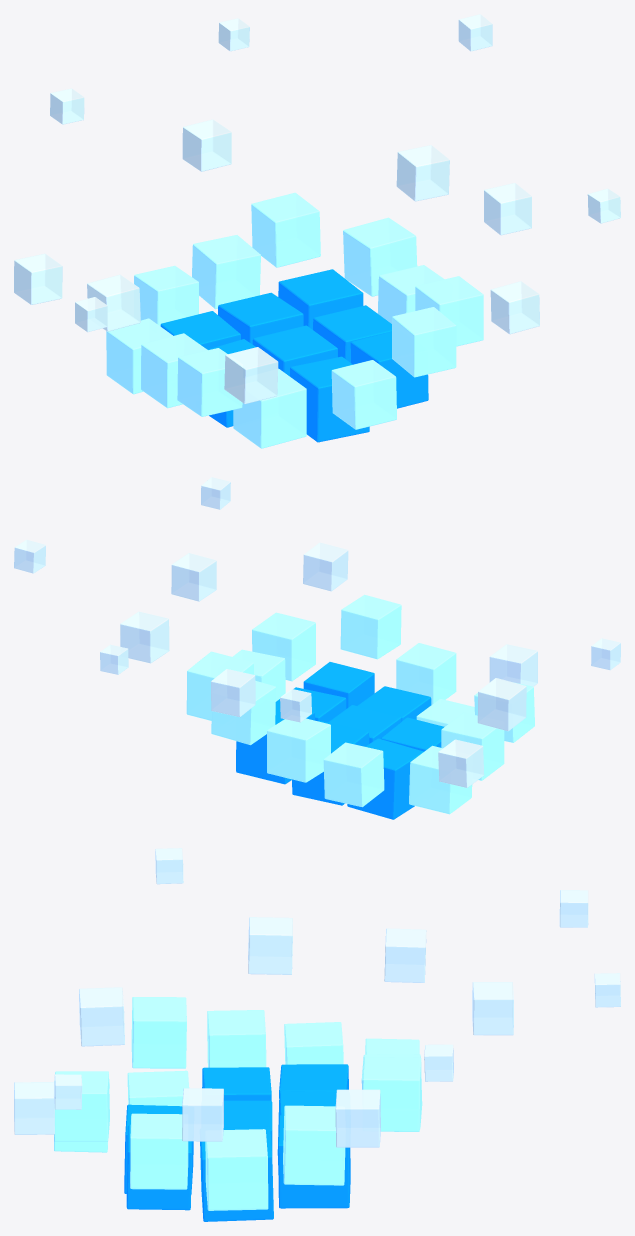
Rendered from cubos.before_bevel.glb.
3 renders of one model, top to bottom at view 1: azimuth 30°, elevation 25°; view 2: azimuth 150°, elevation 25°; view 3: azimuth 270°, elevation 25°, orthographic. The views are drawn at different scales.
Visible parts, largest first — view 1: Cube_M_13, Cube_M_10, Cube_M_12, Cube_M_19, Cube_M_18, Cube_M_08, Cube_M_17, Cube_C_06, Cube_C_04, Cube_M_11, Cube_M_14, Cube_M_15 (+20 smaller); view 2: Cube_M_12, Cube_M_14, Cube_M_19, Cube_M_11, Cube_M_18, Cube_C_05, Cube_M_16, Cube_M_13, Cube_E_21, Cube_M_10, Cube_E_20, Cube_C_07 (+20 smaller); view 3: Cube_M_09, Cube_M_10, Cube_M_11, Cube_M_17, Cube_M_13, Cube_M_15, Cube_M_19, Cube_E_20, Cube_E_23, Cube_E_21, Cube_M_16, Cube_C_04 (+19 smaller).
Part boxes in pixels (<box>): Cube_M_13: <box>251,192,320,267</box>; Cube_M_10: <box>343,217,417,296</box>; Cube_M_12: <box>192,235,260,309</box>; Cube_M_19: <box>392,307,456,377</box>; Cube_M_18: <box>331,360,396,429</box>; Cube_M_08: <box>233,368,306,448</box>; Cube_M_17: <box>177,348,242,416</box>; Cube_C_06: <box>290,356,369,442</box>; Cube_C_04: <box>278,269,363,329</box>; Cube_M_11: <box>415,276,483,346</box>; Cube_M_14: <box>134,265,198,326</box>; Cube_M_15: <box>141,333,207,408</box>; Cube_M_12: <box>267,718,330,782</box>; Cube_M_14: <box>323,742,384,807</box>; Cube_M_19: <box>340,594,401,659</box>; Cube_M_11: <box>252,612,315,681</box>; Cube_M_18: <box>396,643,456,704</box>; Cube_C_05: <box>347,738,423,819</box>; Cube_M_16: <box>409,745,472,814</box>; Cube_M_13: <box>211,680,275,745</box>; Cube_E_21: <box>477,678,526,731</box>; Cube_M_10: <box>186,651,253,720</box>; Cube_E_20: <box>120,611,169,663</box>; Cube_C_07: <box>303,662,374,708</box>; Cube_M_09: <box>205,1129,268,1210</box>; Cube_M_10: <box>283,1105,345,1185</box>; Cube_M_11: <box>130,1113,188,1189</box>; Cube_M_17: <box>131,997,186,1068</box>; Cube_M_13: <box>362,1056,421,1131</box>; Cube_M_15: <box>207,1010,266,1067</box>; Cube_M_19: <box>54,1071,109,1141</box>; Cube_E_20: <box>335,1089,380,1147</box>; Cube_E_23: <box>79,987,124,1046</box>; Cube_E_21: <box>248,917,292,974</box>; Cube_M_16: <box>284,1022,343,1064</box>; Cube_C_04: <box>278,1115,350,1208</box>.
Size of the model in its own units: 10.12 by 4.59 by 9.
